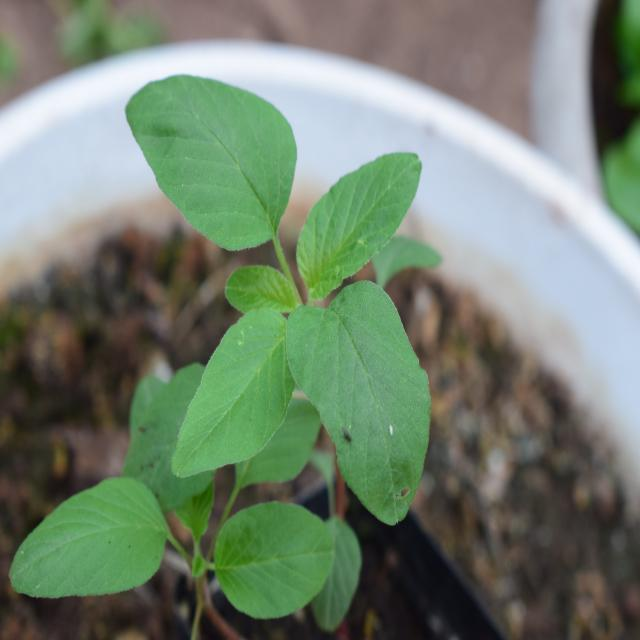pigweed: (125, 59, 441, 499)
